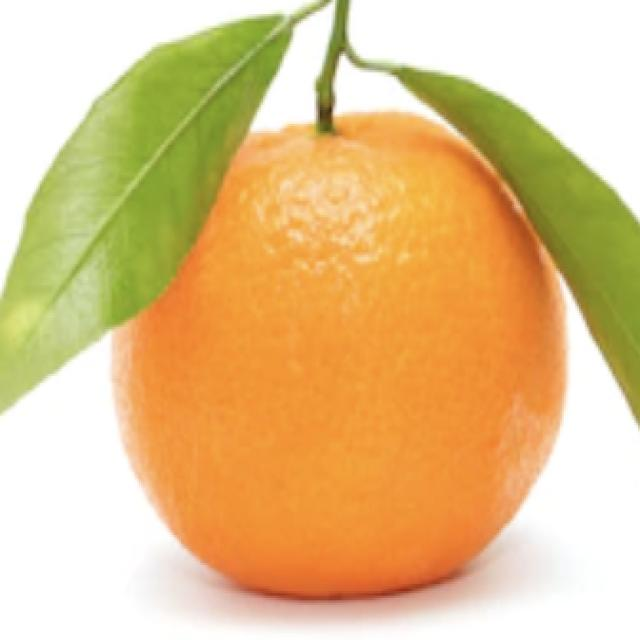orange: (112, 97, 572, 602)
